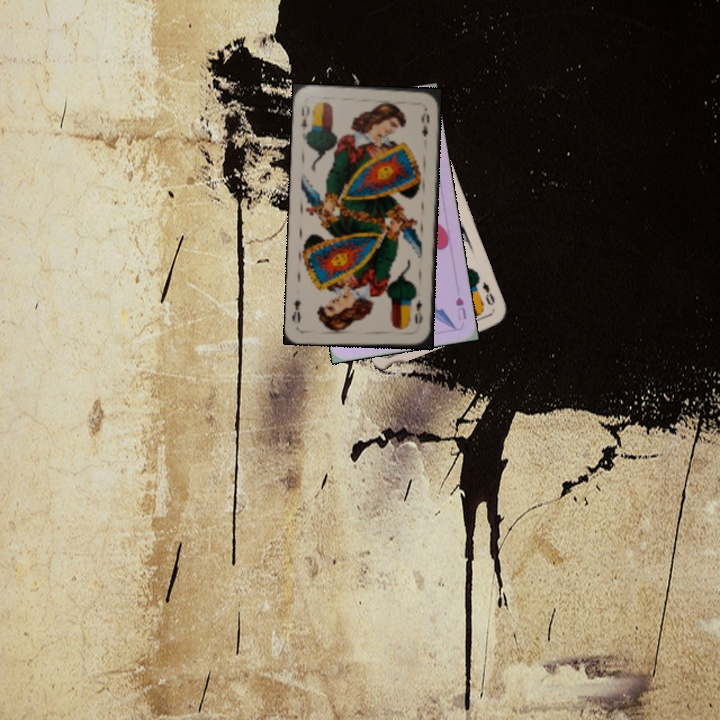EO: (297, 101, 315, 139), (478, 278, 498, 308), (411, 295, 425, 326)
HU: (451, 293, 469, 323)
